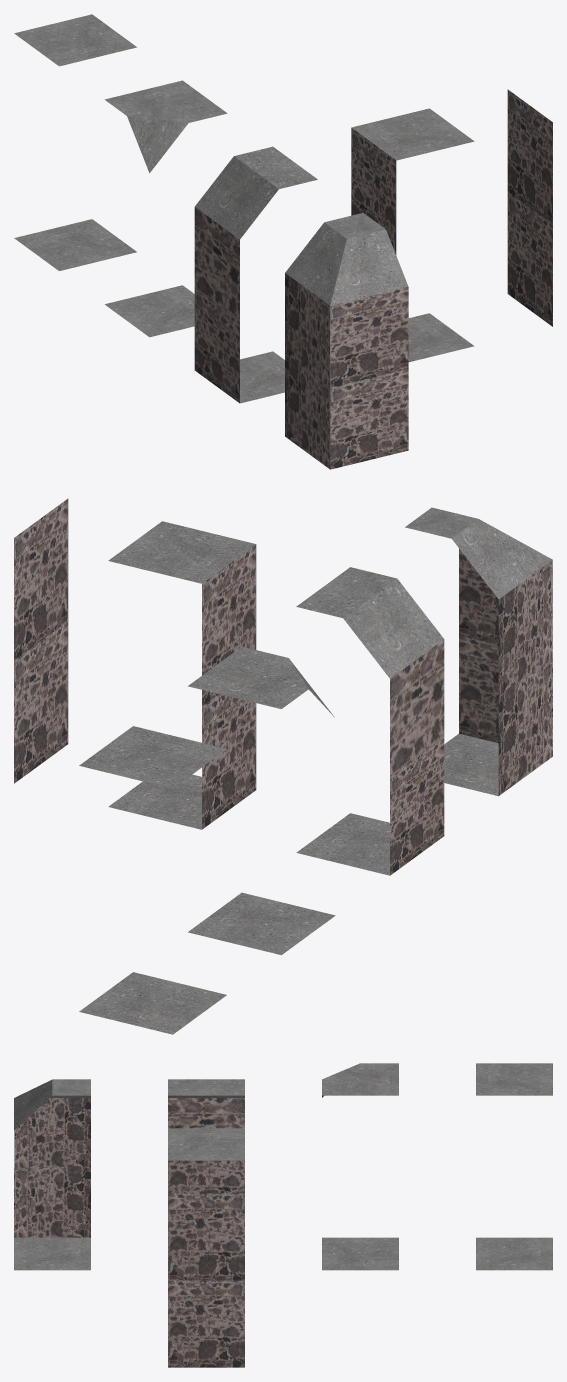
File: Skooks_v2.18.glb
3 views of the same model, one above another, from view 1: azimuth 30°, elevation 25°; view 2: azimuth 150°, elevation 25°; view 3: azimuth 270°, elevation 25° (orthographic). The views are drawn at different scales.
Visible parts, largest first — view 1: Wall_corner-col, Wall.003-col, Wall.001-col, Wall.002-col, Floor_corner-col, Floor-col; view 2: Wall_corner-col, Wall.003-col, Wall.002-col, Wall.001-col, Floor-col, Floor_corner-col; view 3: Wall_corner-col, Wall.001-col, Floor-col, Wall.002-col, Floor_corner-col, Wall.003-col.
Part boxes in pixels (x1=…): Wall_corner-col: x1=285, y1=213, x2=408, y2=469; Wall.003-col: x1=194, y1=146, x2=317, y2=403; Wall.001-col: x1=507, y1=89, x2=552, y2=326; Wall.002-col: x1=351, y1=108, x2=474, y2=362; Floor_corner-col: x1=104, y1=80, x2=227, y2=337; Floor-col: x1=14, y1=14, x2=136, y2=270; Wall_corner-col: x1=405, y1=507, x2=552, y2=796; Wall.003-col: x1=296, y1=567, x2=444, y2=875; Wall.002-col: x1=108, y1=521, x2=256, y2=829; Wall.001-col: x1=14, y1=498, x2=68, y2=783; Floor-col: x1=79, y1=726, x2=226, y2=1034; Floor_corner-col: x1=188, y1=646, x2=335, y2=955; Wall_corner-col: x1=14, y1=1079, x2=90, y2=1270; Wall.001-col: x1=168, y1=1193, x2=244, y2=1367; Floor-col: x1=476, y1=1063, x2=552, y2=1270; Wall.002-col: x1=168, y1=1128, x2=244, y2=1193; Floor_corner-col: x1=322, y1=1063, x2=398, y2=1270; Wall.003-col: x1=168, y1=1079, x2=244, y2=1128.
Size of the model in its own units: 4 by 2.5 by 7.
1 material, 1 textured.
